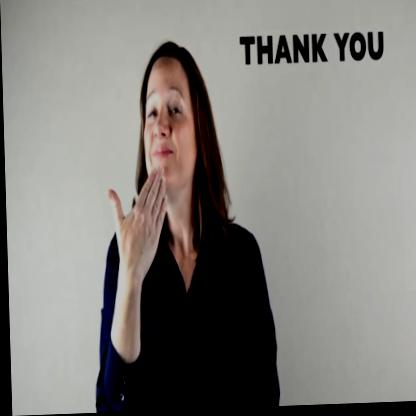ThankYou: (88, 34, 235, 302)
